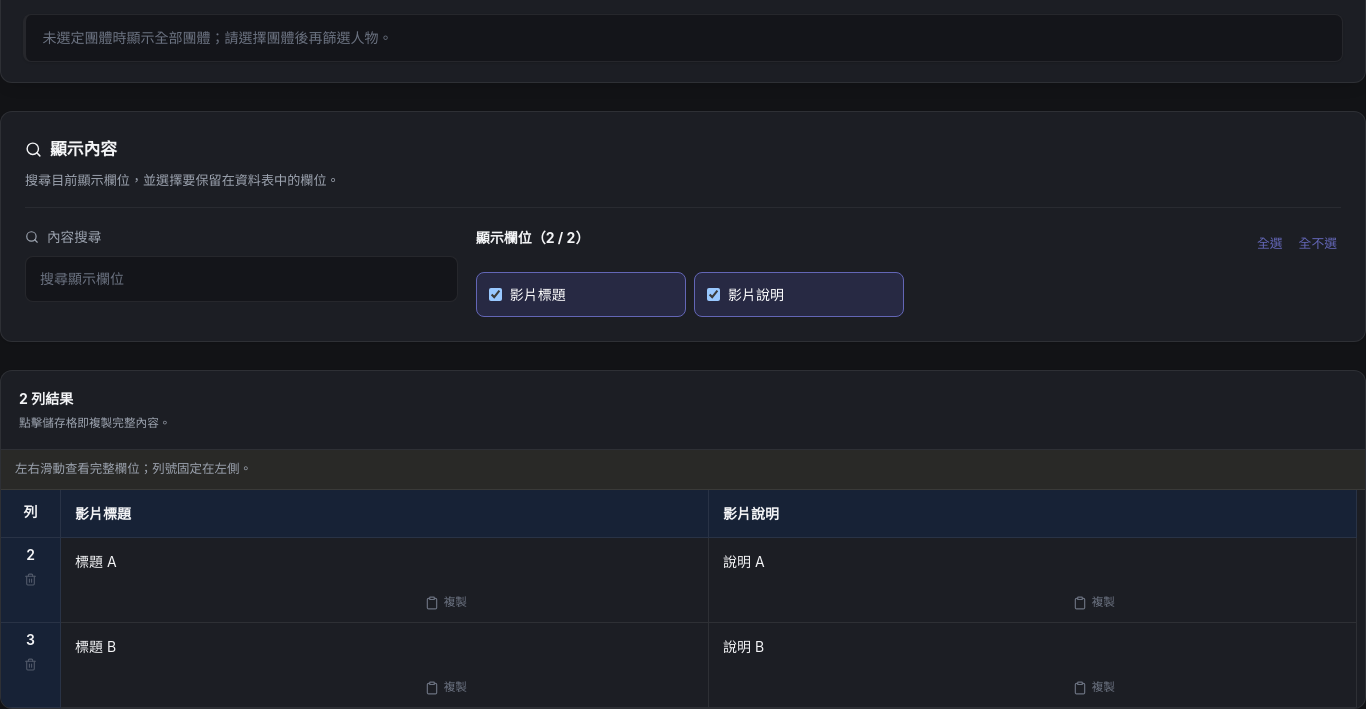
it: SheetCopyPage row dismissal and restoration › shows empty state with restore button when all candidate rows are dismissed
(page scrolled)
Expected: the text "2 列結果" is shown, [19, 387, 73, 410]
Click the button named "移除第 2 列".
click(30, 579)  # box [20, 568, 42, 590]
(page scrolled)
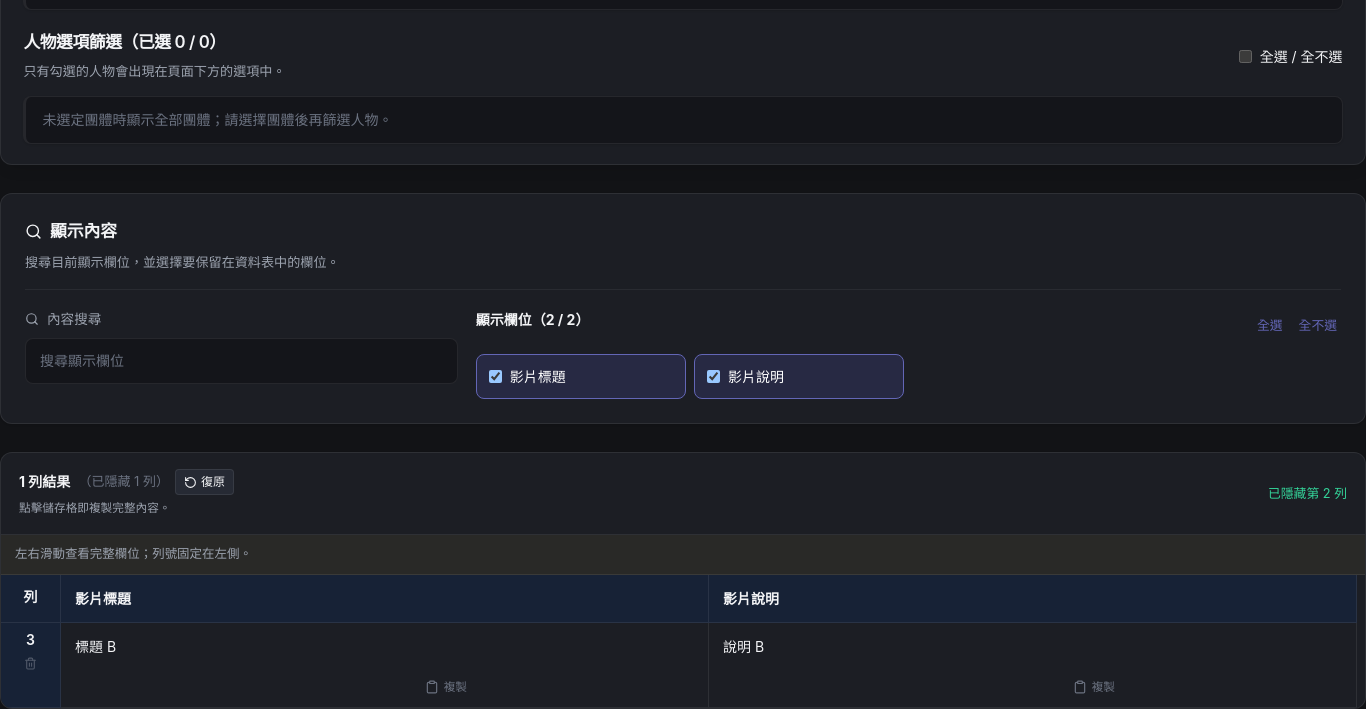
Click the button named "移除第 3 列".
click(30, 664)  # box [20, 653, 42, 675]
(page scrolled)
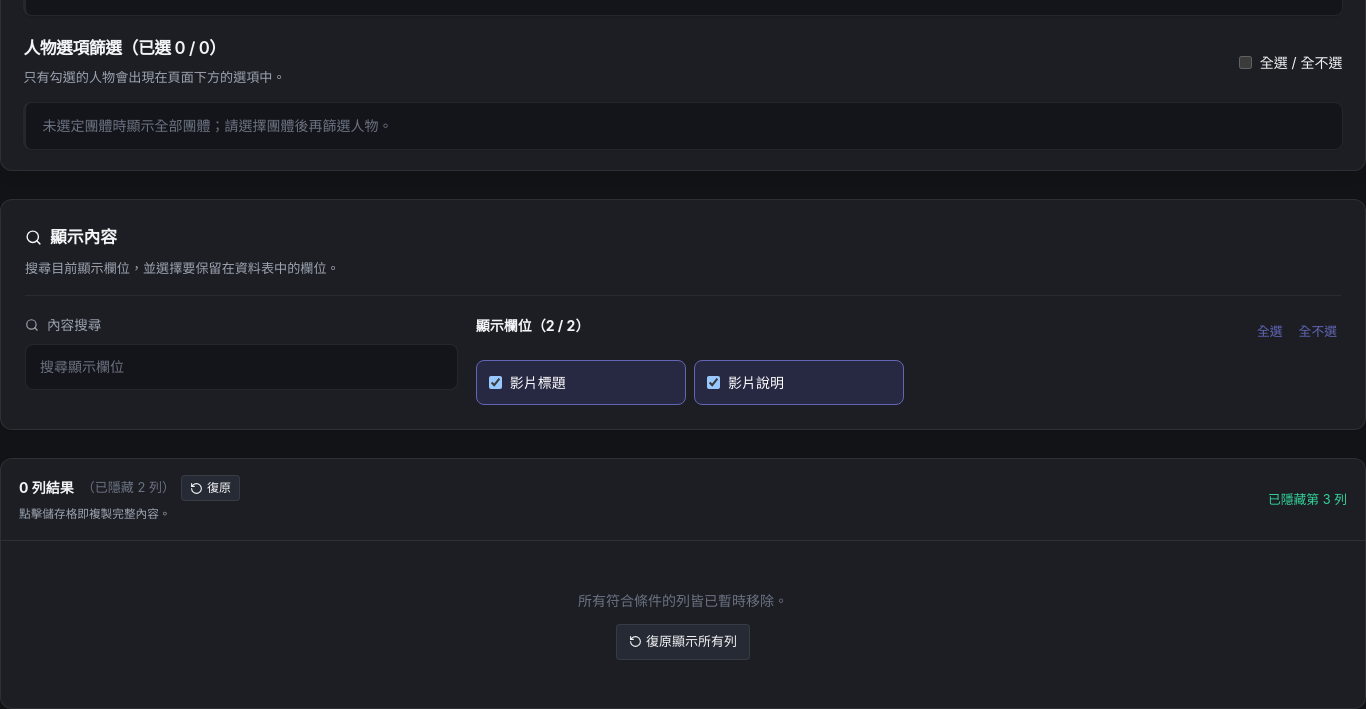
Expected: the text "0 列結果" is shown, [19, 476, 74, 500]
Expected: the text "所有符合條件的列皆已暫時移除。" is shown, [578, 592, 788, 609]
Click the button "復原顯示所有列".
click(683, 642)  # box [616, 624, 750, 660]
(page scrolled)
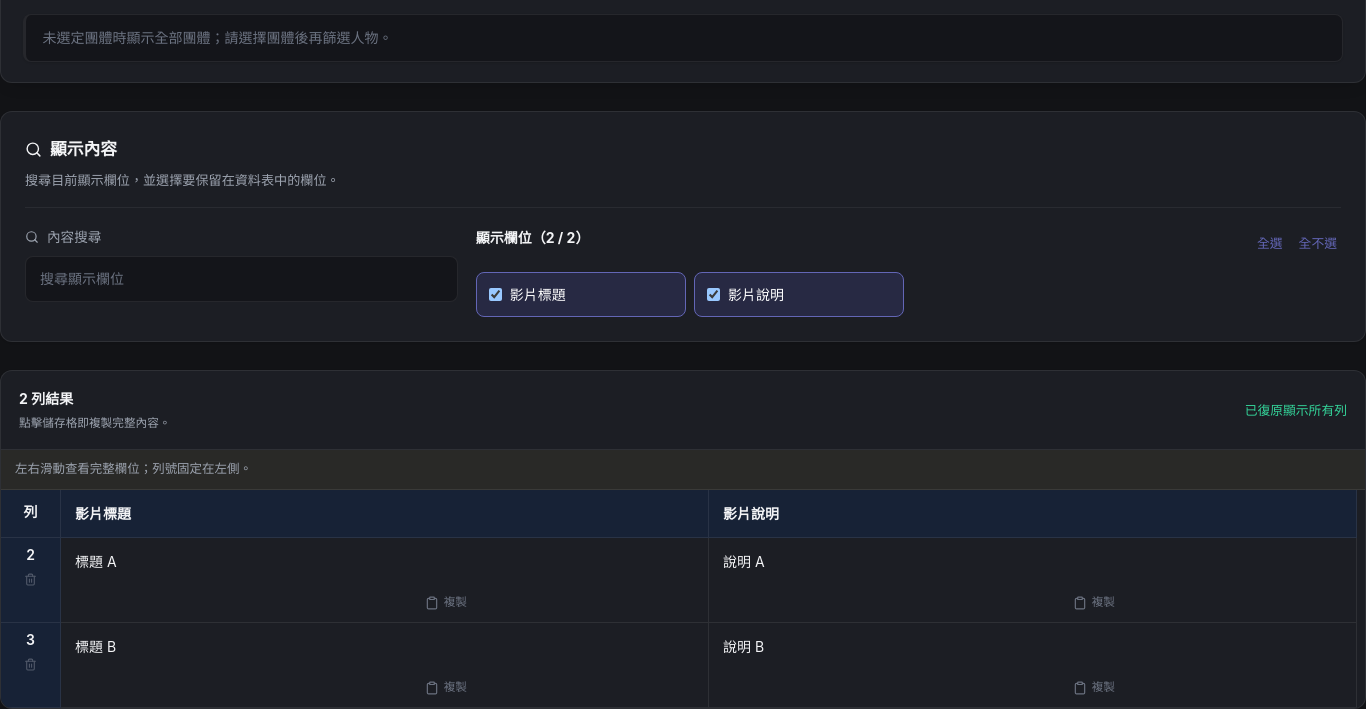
Expected: the text "2 列結果" is shown, [19, 387, 73, 410]
Expected: the text "標題 A" is shown, [75, 553, 117, 570]
Expected: the text "標題 B" is shown, [75, 638, 116, 655]
